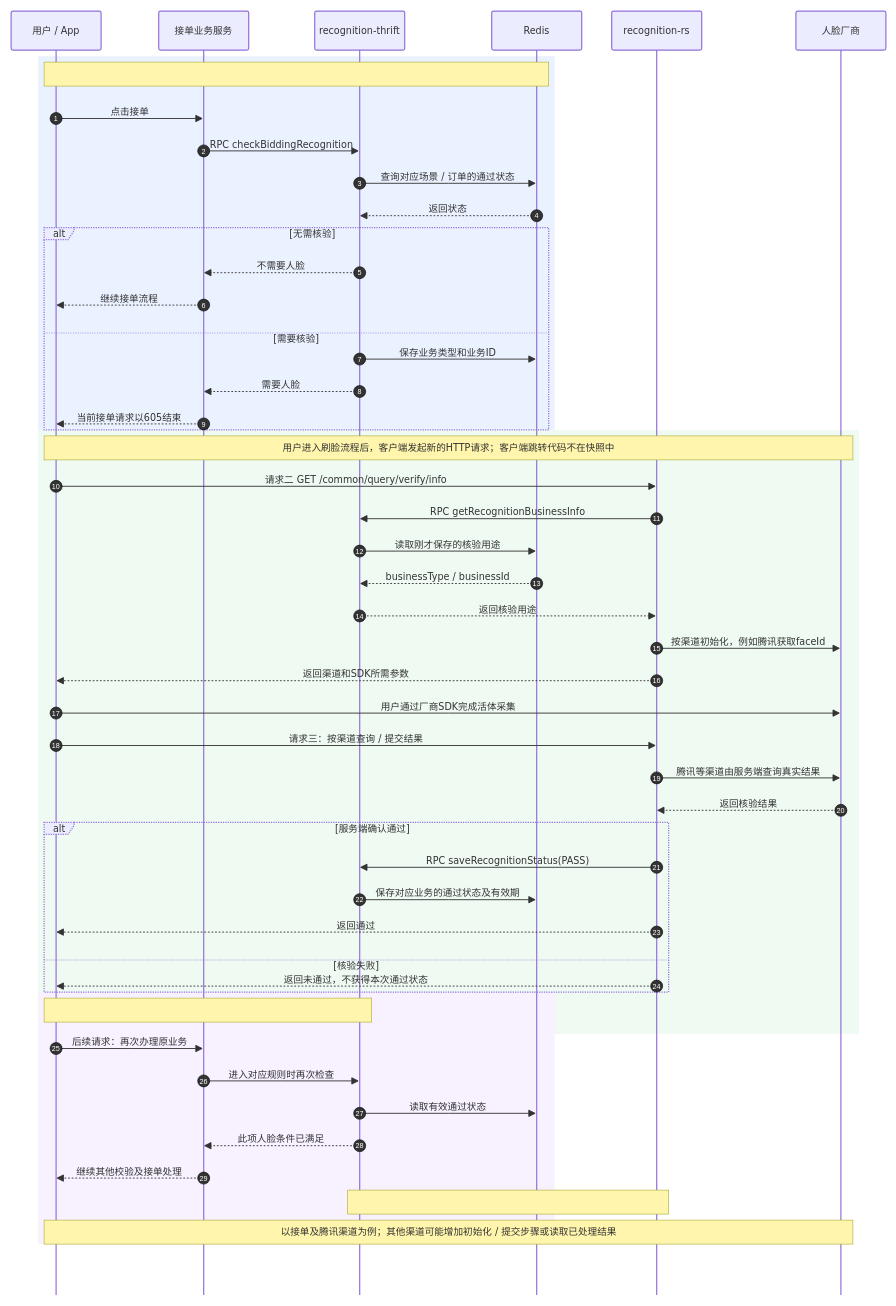
Image size: 896x1306. Some labels were removed from this diagram. Here are the shapes that lost their labels. From the top down, the centre of each, then its label:
At point 296,74: "请求一：办理接单；仅在业务条件命中时检查人脸".
At point 208,1010: "通过后再继续原业务；自动重试还是再次点击，需补客户端确认".
At point 508,1202: "写入Redis不会自动唤醒RS；每个箭头由图中调用方主动发起".
